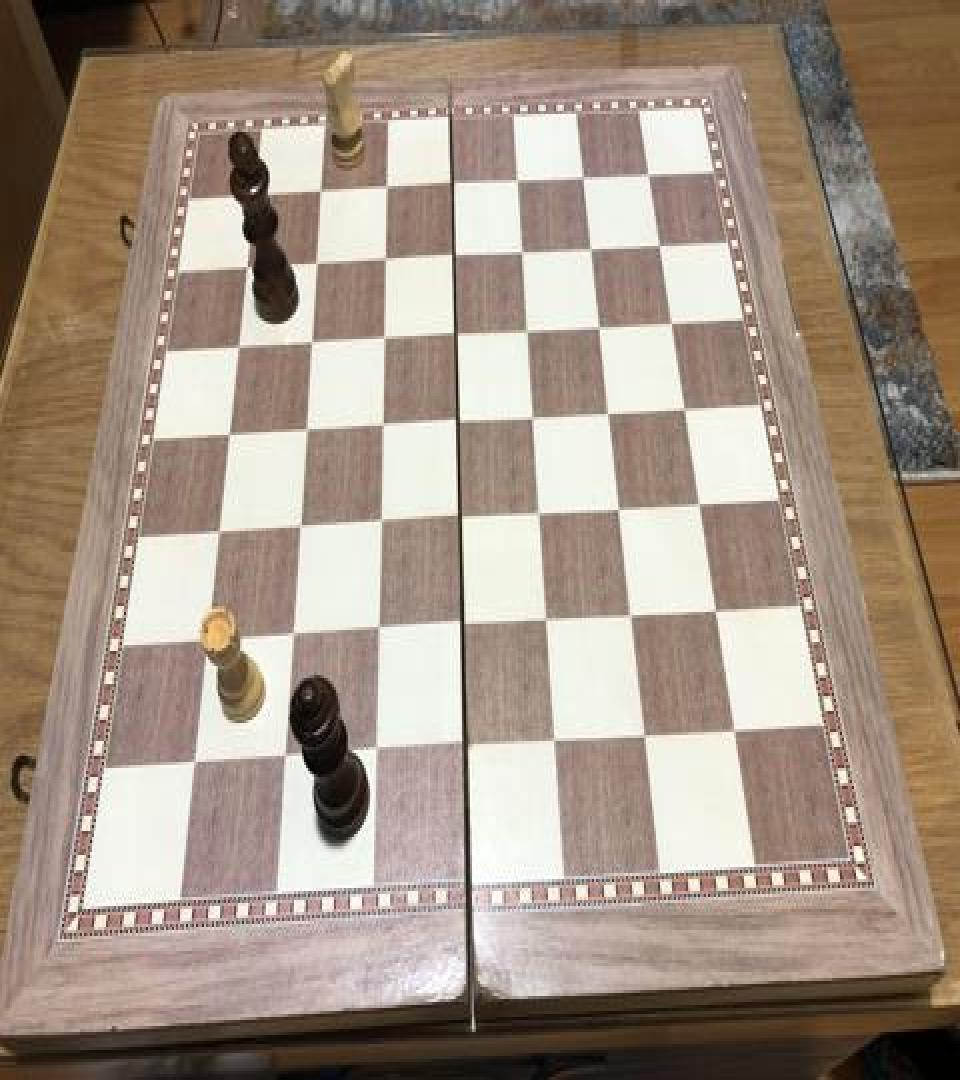xcorner: (196, 625, 220, 662), (725, 712, 749, 749), (636, 718, 660, 755), (636, 158, 660, 194), (571, 160, 595, 196), (505, 164, 529, 200), (440, 166, 464, 202), (374, 171, 398, 207), (307, 174, 331, 210), (241, 177, 265, 213), (647, 228, 671, 264), (579, 231, 603, 267), (510, 236, 534, 272), (442, 238, 466, 274), (373, 243, 397, 279), (303, 246, 327, 282), (233, 249, 257, 285), (660, 306, 684, 342), (588, 310, 612, 346), (516, 314, 540, 350), (444, 318, 468, 354), (371, 321, 395, 357), (299, 326, 323, 362), (673, 392, 697, 428), (598, 396, 622, 432), (523, 400, 547, 436), (447, 405, 471, 441), (370, 410, 394, 446), (217, 417, 241, 453), (689, 488, 713, 524), (609, 492, 633, 528), (530, 496, 554, 532), (449, 501, 473, 537), (369, 506, 393, 542), (288, 510, 312, 546), (207, 516, 231, 552), (706, 592, 730, 628), (622, 598, 646, 634), (537, 603, 561, 639), (453, 609, 477, 645), (367, 614, 391, 650), (282, 620, 306, 656), (546, 724, 570, 760), (456, 729, 480, 765), (366, 735, 390, 771), (275, 741, 299, 777), (183, 747, 207, 783), (225, 329, 249, 364), (294, 413, 318, 448)
